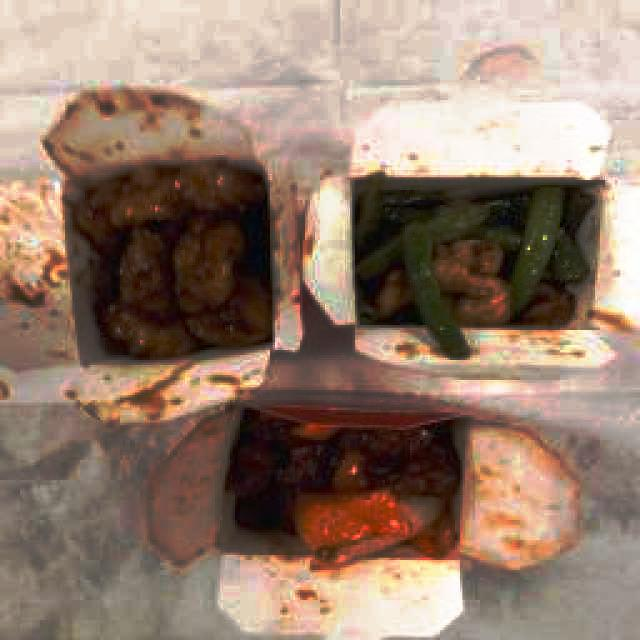Beijing Beef: (227, 402, 467, 564)
Kung Pao Chicken: (86, 158, 273, 362)
String Bean Chicken Breast: (353, 177, 592, 357)
